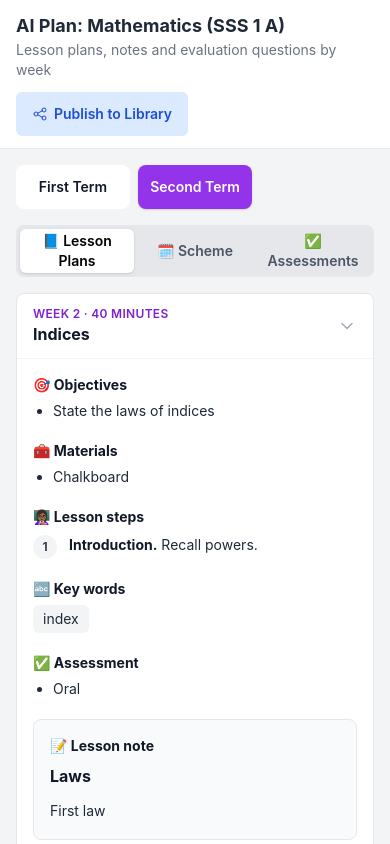
Test case: LessonPlanDetailScreen › opens on the requested term and shows objectives, steps and the lesson note
Expected: the list item "State the laws of indices" is shown, [53,402,215,419]
Expected: the text "Recall powers." is shown, [161,536,258,553]
Click the tab "✅ Assessments". click: click(313, 251)
box: [256,229,370,273]
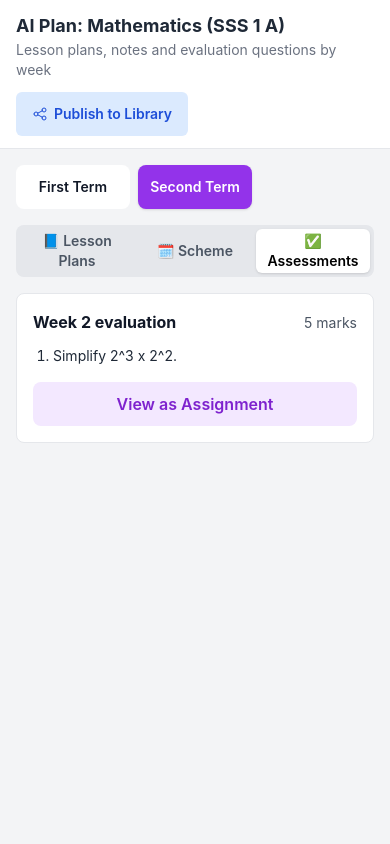
Result: the list item "Simplify 2^3 x 2^2." is shown at [53,347,177,364]
